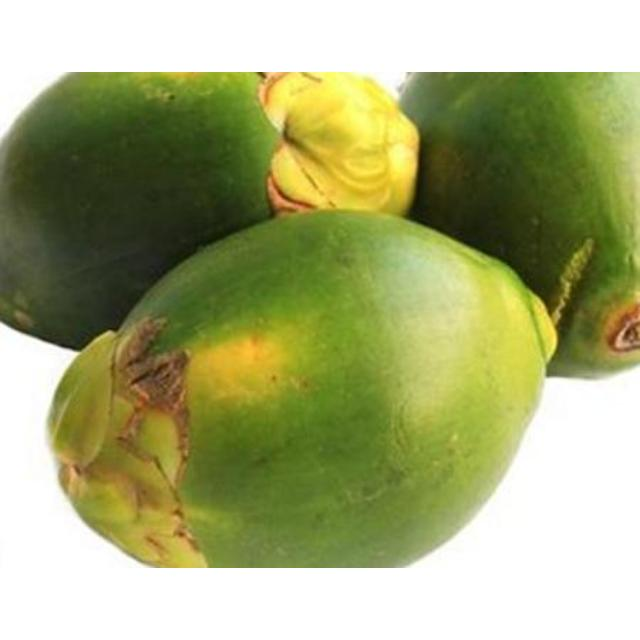good: (43, 209, 559, 567), (0, 72, 280, 351), (397, 72, 639, 381), (259, 72, 420, 216)
